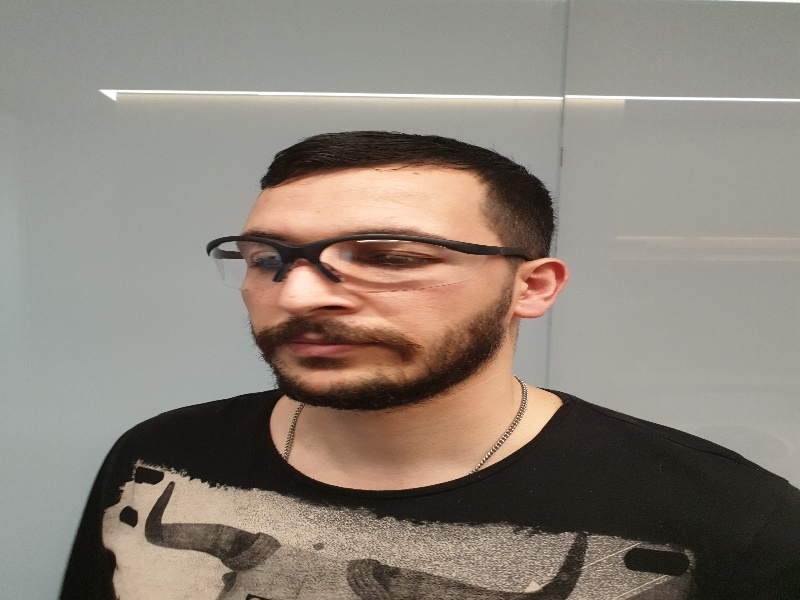Gozluk: (211, 233, 530, 291)
